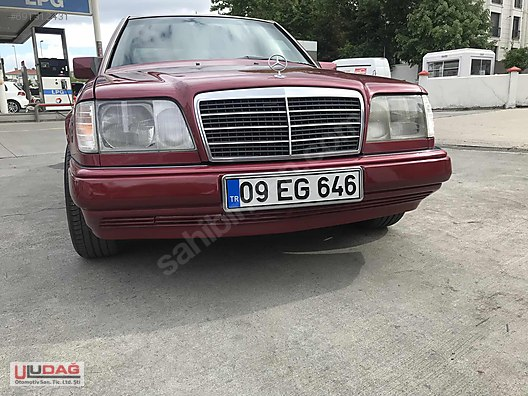mercedes: (60, 10, 457, 270)
